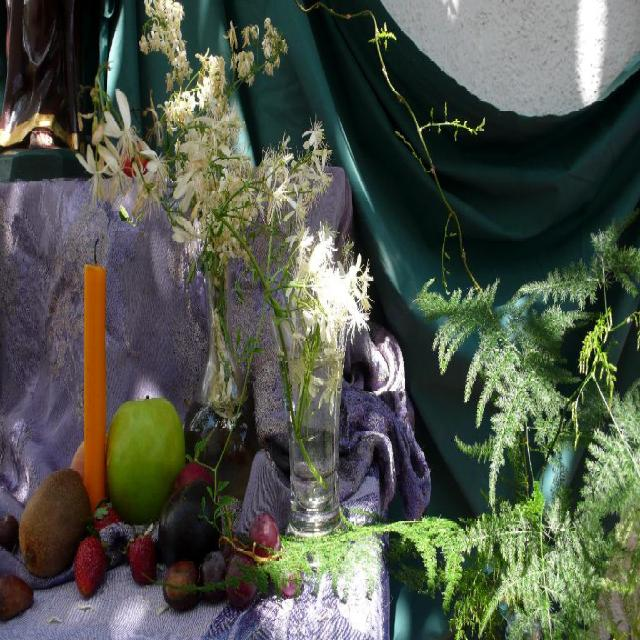Healty Apple: (99, 389, 180, 525)
